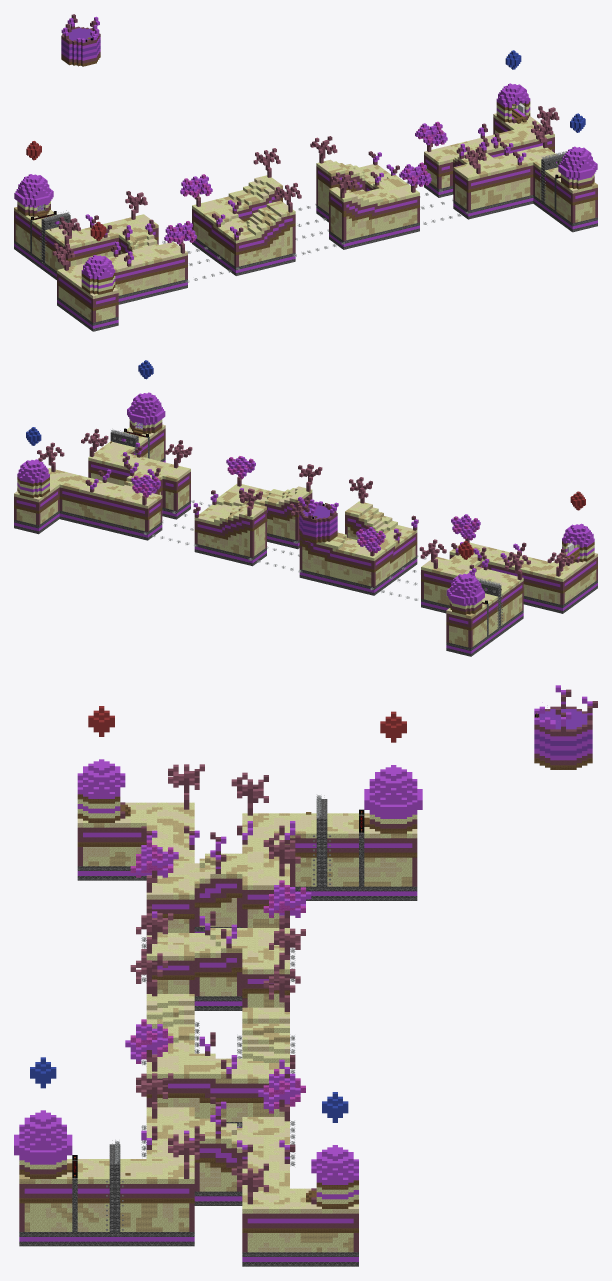
The model's file is minecraft.obj.
3 renders of one model, top to bottom at view 1: azimuth 30°, elevation 25°; view 2: azimuth 150°, elevation 25°; view 3: azimuth 270°, elevation 25°, orthographic. The views are drawn at different scales.
Bounding box in the file's own units: 185 × 56 × 110.
